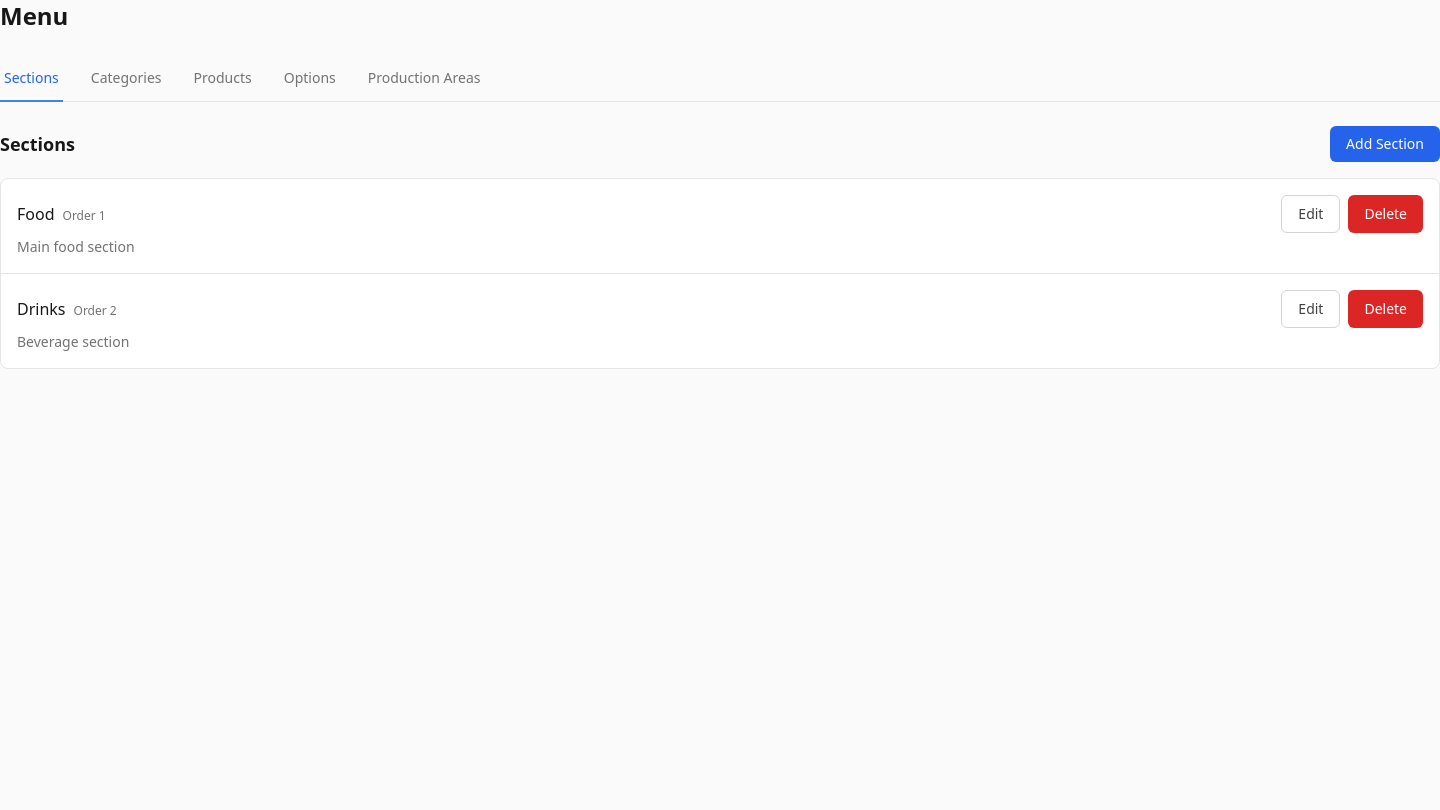
Test: MenuPage › submits the section form and closes the modal
The width and height of the screenshot is (1440, 810).
Expected: the heading "Sections" is shown, [0, 130, 75, 158]
Click the button "Add Section".
click(1385, 144)  # box [1330, 126, 1439, 162]
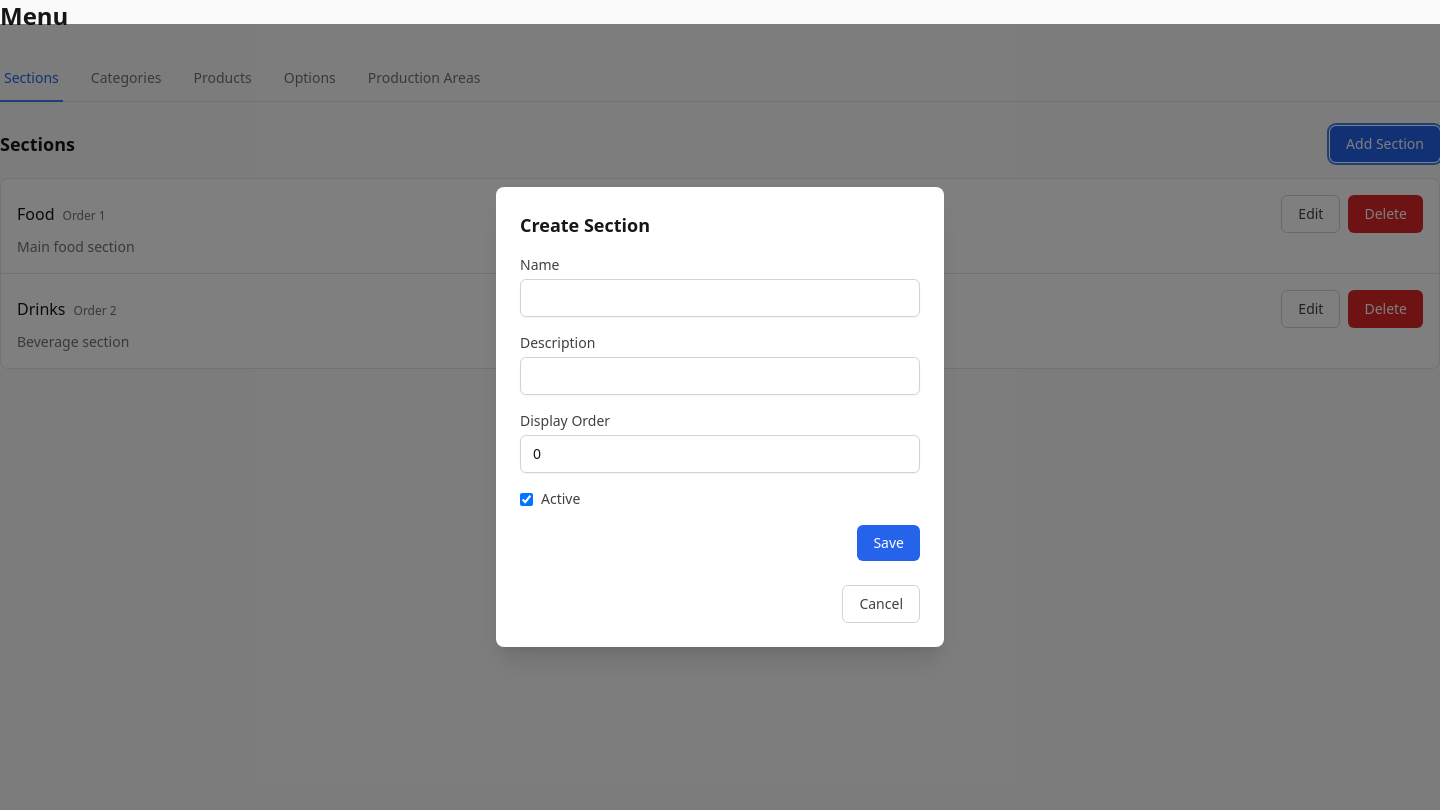
Type "Drinks" into the field labelled "Name".
click(720, 298); type("Drinks")  # box [520, 279, 920, 317]
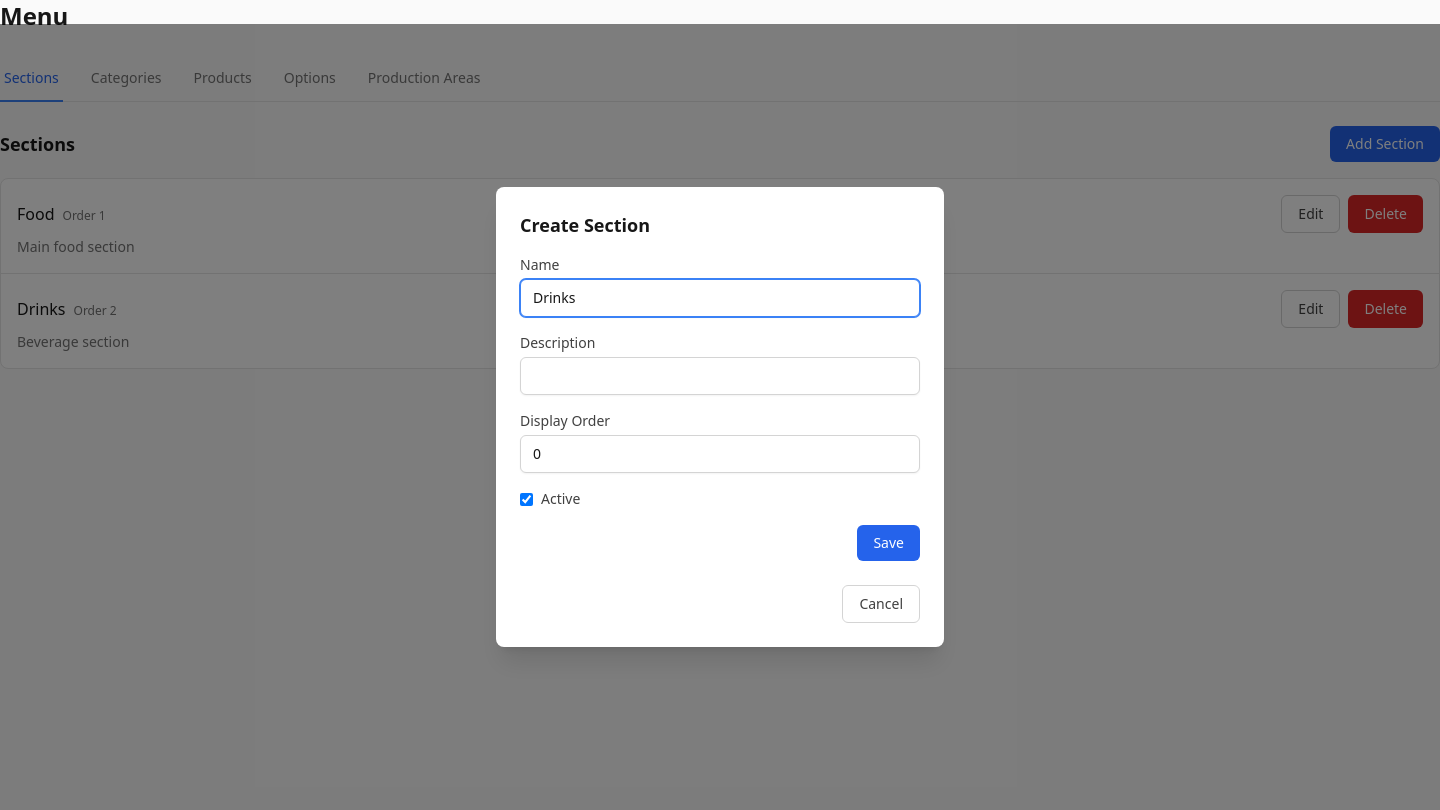
Replace the text in the number field labelled "Display Order" with "3" at (720, 454), box [520, 435, 920, 473]
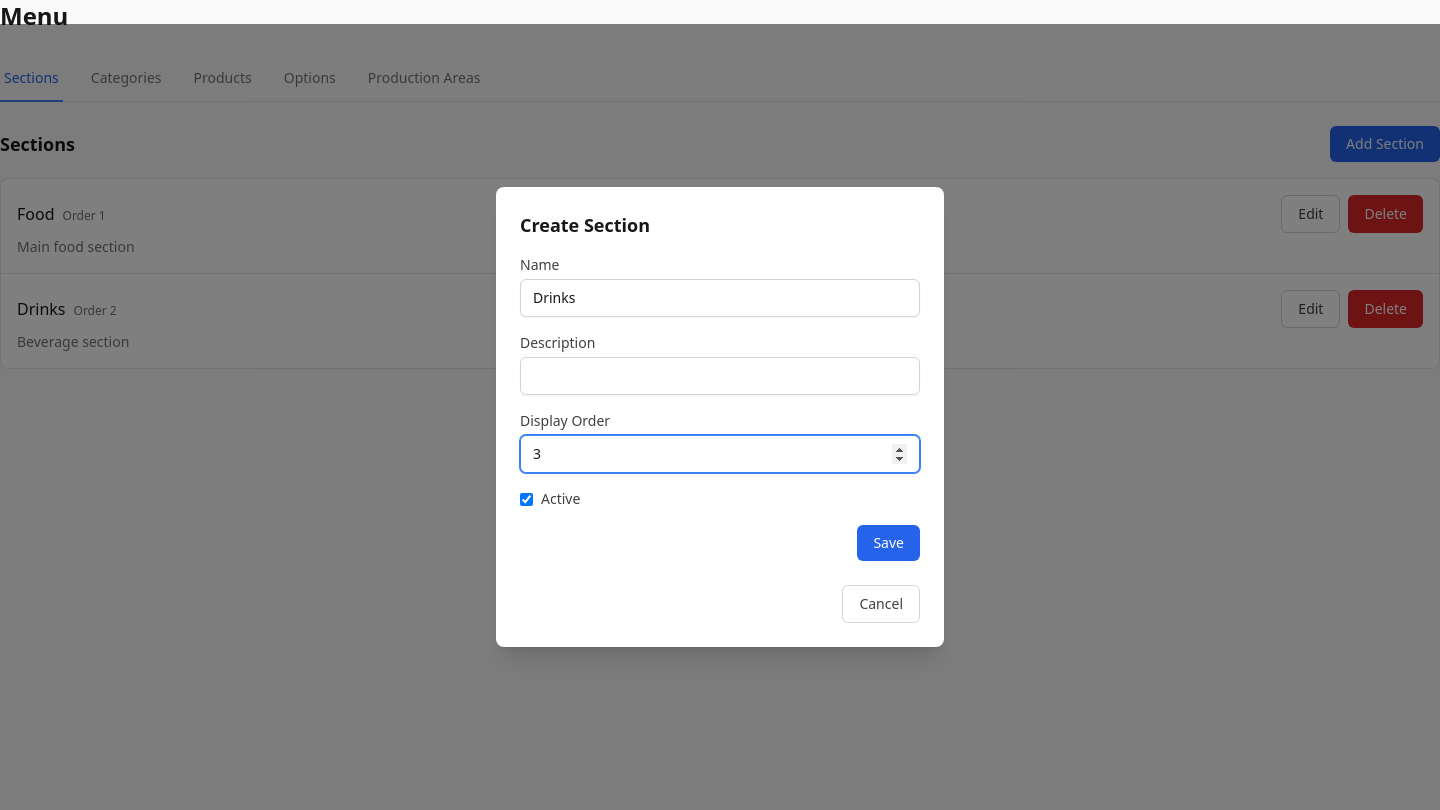
Click the button "Save".
click(889, 543)  # box [857, 525, 920, 561]
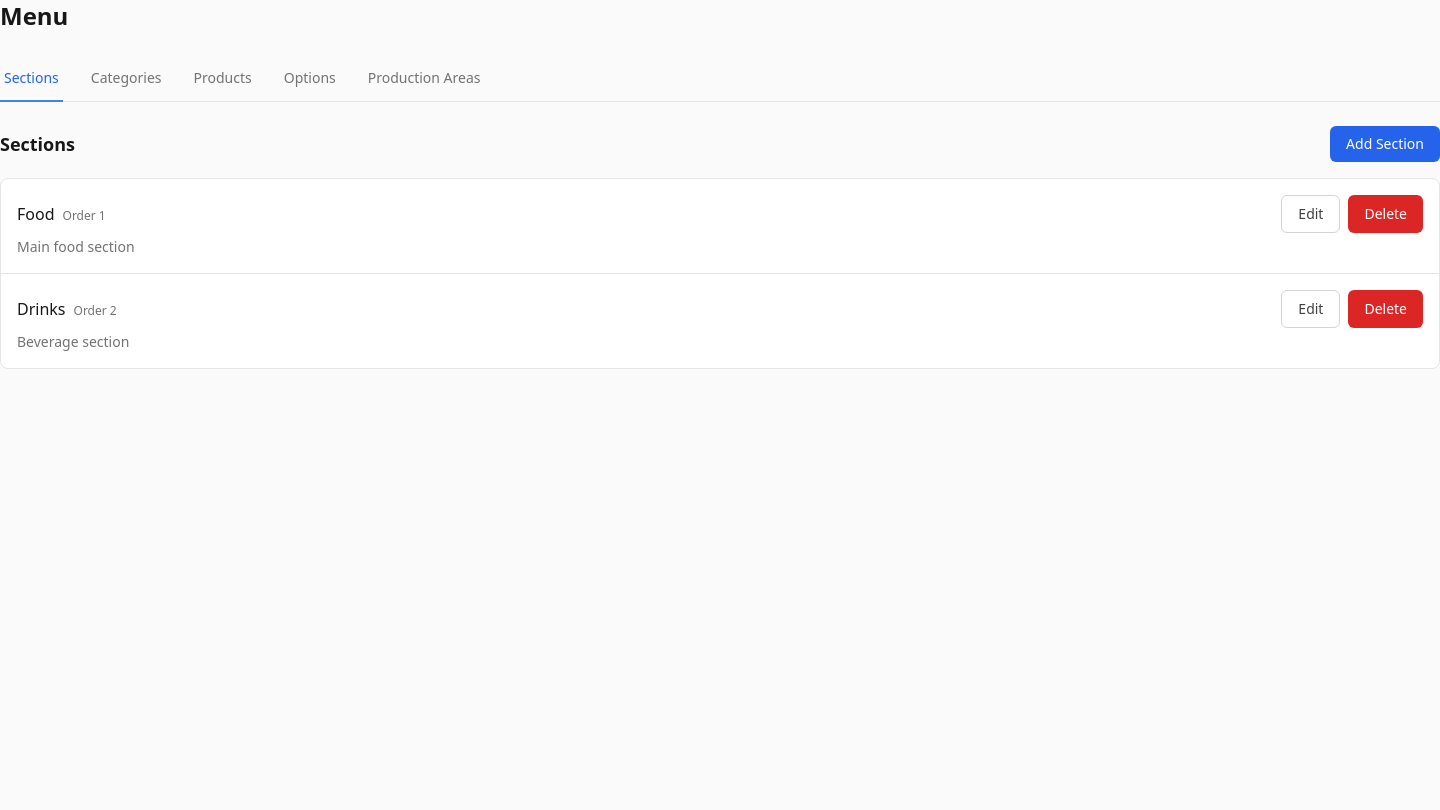
Expected: the dialog is gone
